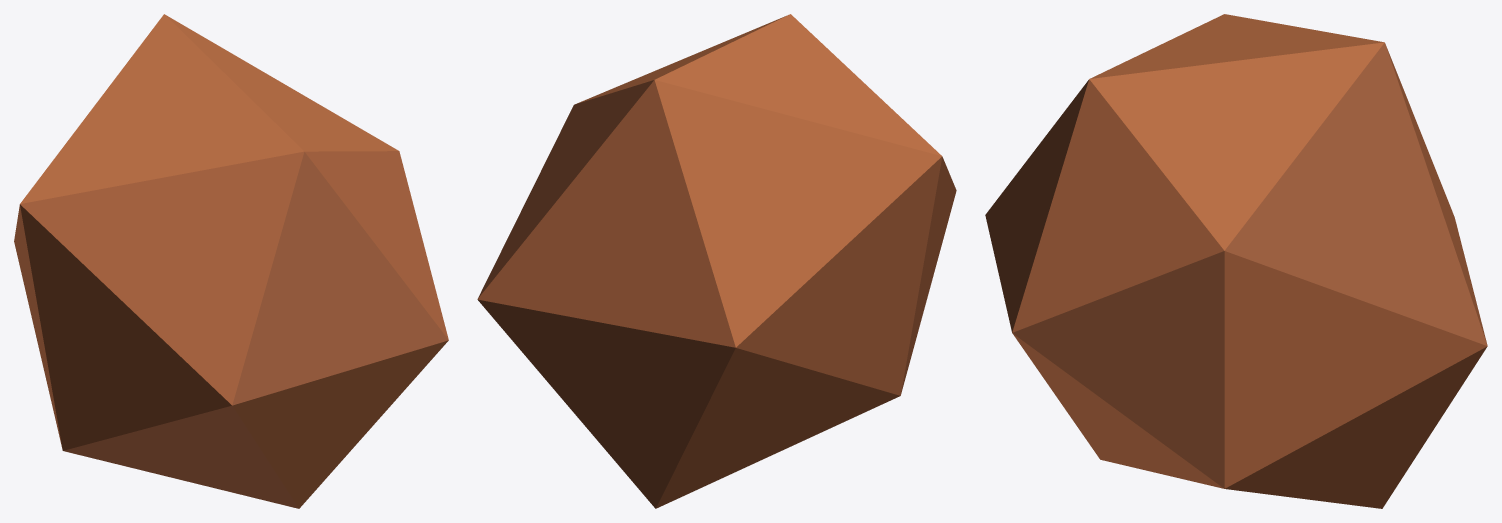
The model's file is SM_Rock_0.glb.
The picture shows the model from 3 angles, left to right: view 1: azimuth 30°, elevation 25°; view 2: azimuth 150°, elevation 25°; view 3: azimuth 270°, elevation 25°; orthographic projection. The views are drawn at different scales.
Parts seen in each view (by area): view 1: SM_Rock_0; view 2: SM_Rock_0; view 3: SM_Rock_0.
Part boxes in pixels (box(x1,y1,x2,y2)): SM_Rock_0: box(14, 14, 448, 508); SM_Rock_0: box(477, 14, 956, 508); SM_Rock_0: box(985, 14, 1487, 508).
Size of the model in its own units: 1.79 by 1.91 by 1.86.
1 material, 1 textured.
